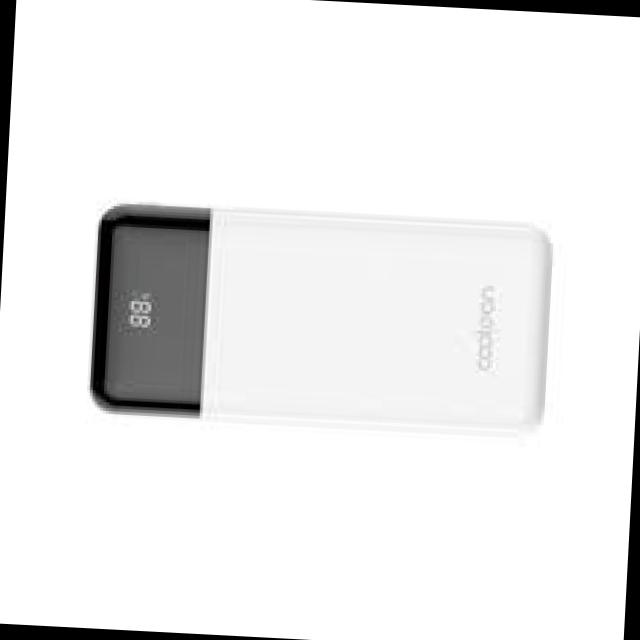power_bank: (85, 196, 560, 437)
